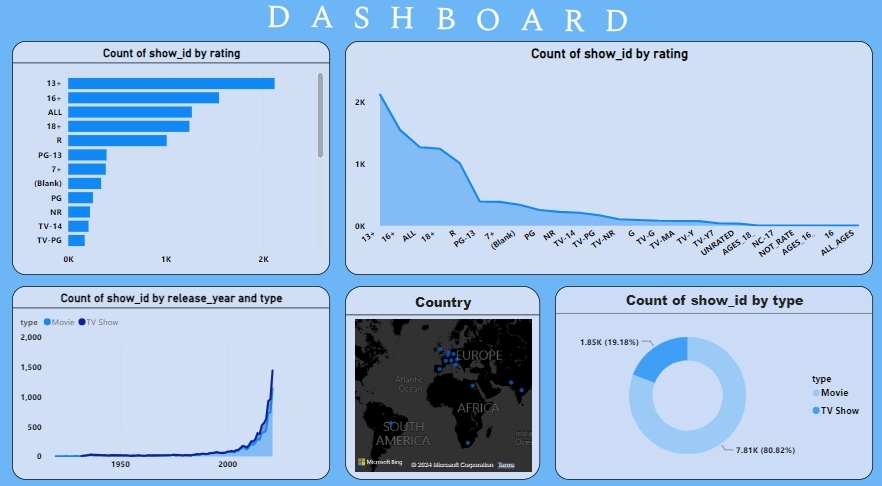

What the dashboard file says about the page in this screenshot:
{"tool":"powerbi","page":{"name":"Page 1","canvas":[1280,720],"ordinal":0},"visuals":[{"type":"map","title":"Country","box":[498.2,426.2,280.8,279.4],"z":0},{"type":"donutChart","fields":{"Category":["amazon_prime_titles.type"],"Y":["CountNonNull(amazon_prime_titles.show_id)"]},"box":[800.6,426.2,457.9,279.4],"z":1000},{"type":"stackedAreaChart","fields":{"Category":["amazon_prime_titles.release_year"],"Y":["CountNonNull(amazon_prime_titles.show_id)"],"Series":["amazon_prime_titles.type"]},"box":[18.7,426.2,457.9,279.4],"z":2000},{"type":"barChart","fields":{"Category":["amazon_prime_titles.rating"],"Y":["CountNonNull(amazon_prime_titles.show_id)"]},"box":[18.7,73.4,457.9,337],"z":3000},{"type":"stackedAreaChart","fields":{"Category":["amazon_prime_titles.rating"],"Y":["CountNonNull(amazon_prime_titles.show_id)"]},"box":[498.2,73.4,760.3,337],"z":4000},{"type":"textbox","box":[390.2,0,488.2,73.4],"z":5000}]}

Visuals, with their boxes in screenshot pixels (x1, y1, x2, y2), scaled from the page's 1280x720 canvas onto the 882x486 screenshot:
"Country" map: bbox=[343, 288, 537, 476]
donutChart - amazon_prime_titles.type x CountNonNull(amazon_prime_titles.show_id): bbox=[552, 288, 867, 476]
stackedAreaChart - amazon_prime_titles.release_year x CountNonNull(amazon_prime_titles.show_id): bbox=[13, 288, 328, 476]
barChart - amazon_prime_titles.rating x CountNonNull(amazon_prime_titles.show_id): bbox=[13, 50, 328, 277]
stackedAreaChart - amazon_prime_titles.rating x CountNonNull(amazon_prime_titles.show_id): bbox=[343, 50, 867, 277]
textbox: bbox=[269, 0, 605, 50]
